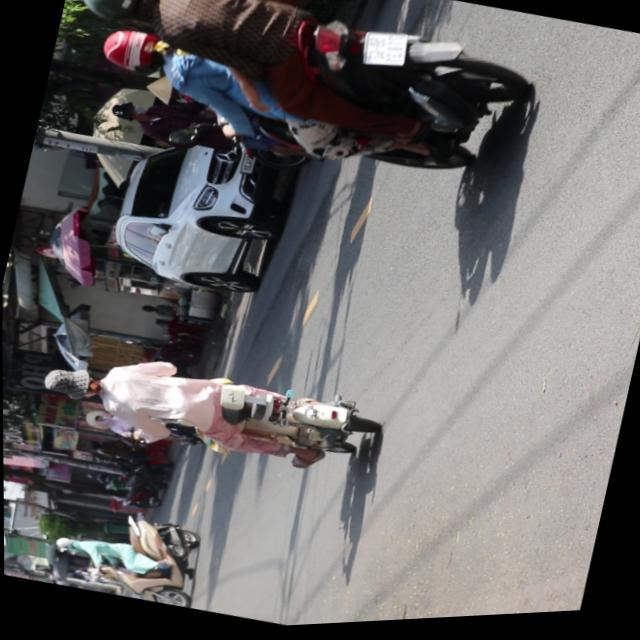helmet: (96, 21, 172, 82), (75, 0, 163, 33), (50, 532, 83, 556)
licenseplate: (54, 0, 545, 219), (30, 324, 387, 499), (37, 488, 210, 616)
motorcyclist: (41, 360, 104, 406)
nohelmet: (359, 29, 409, 74)
